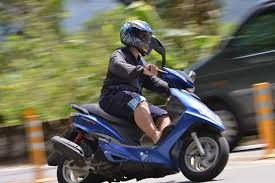helmet: (115, 19, 157, 55)
